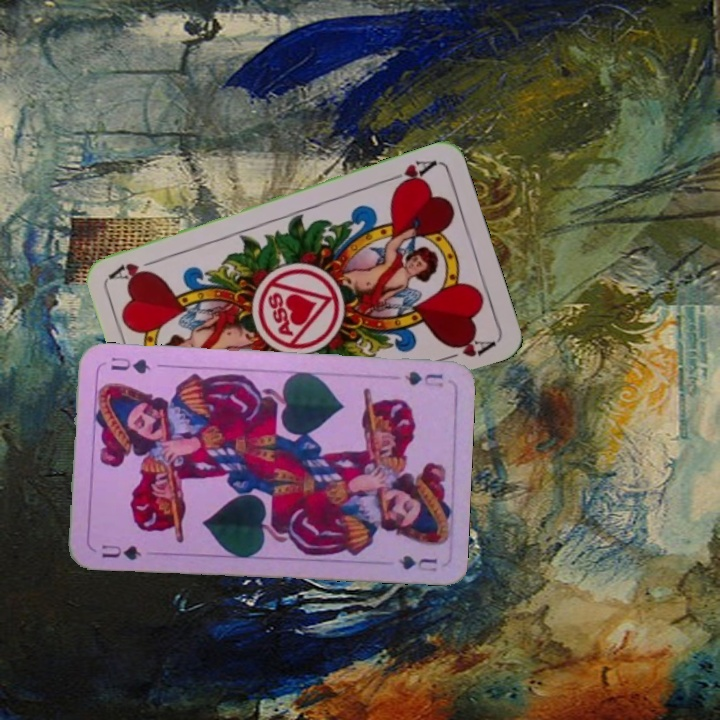GU: (98, 540, 144, 563), (400, 368, 446, 390)
HA: (382, 156, 440, 191)
